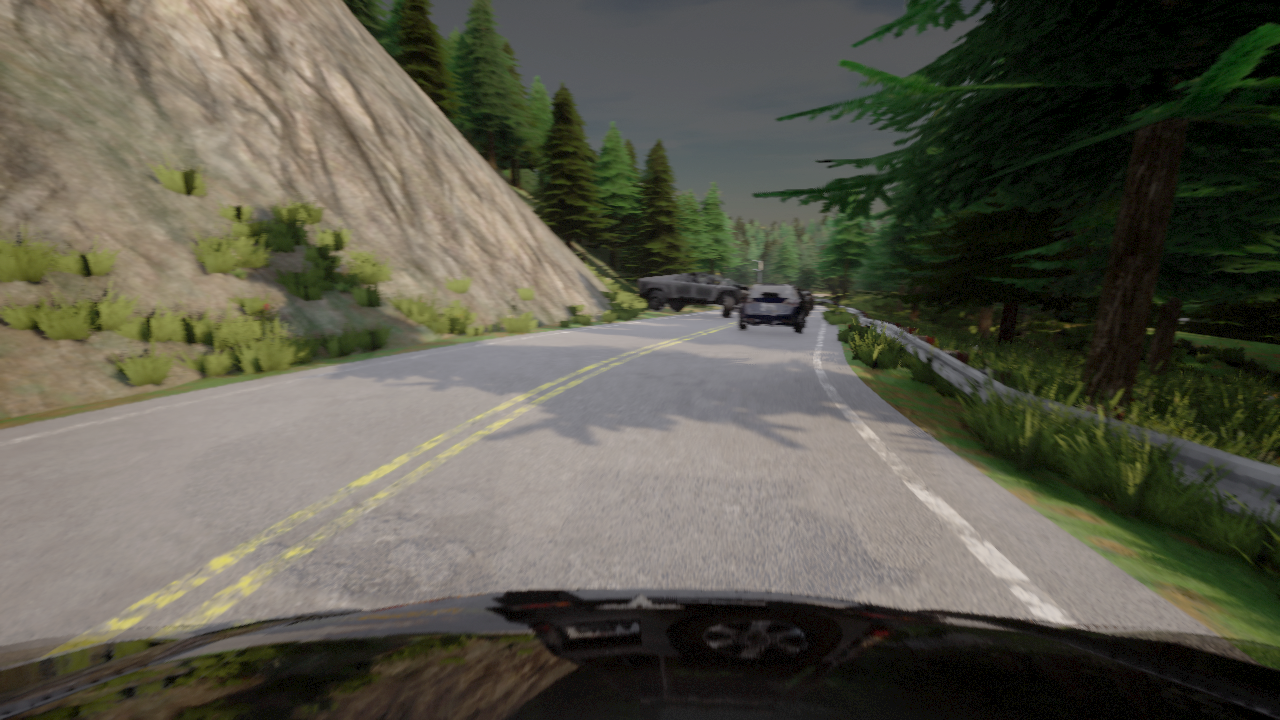cyclist: (0, 588, 1279, 719), (639, 272, 751, 316), (738, 284, 809, 332), (800, 290, 815, 309), (800, 291, 810, 315), (733, 306, 736, 310)
